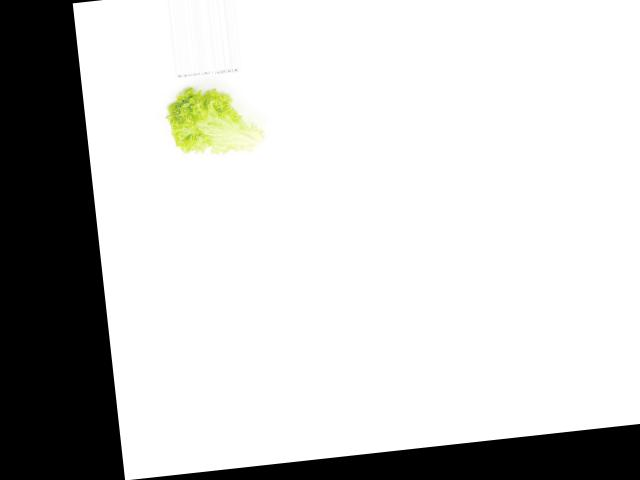lettuce: (159, 79, 265, 163)
